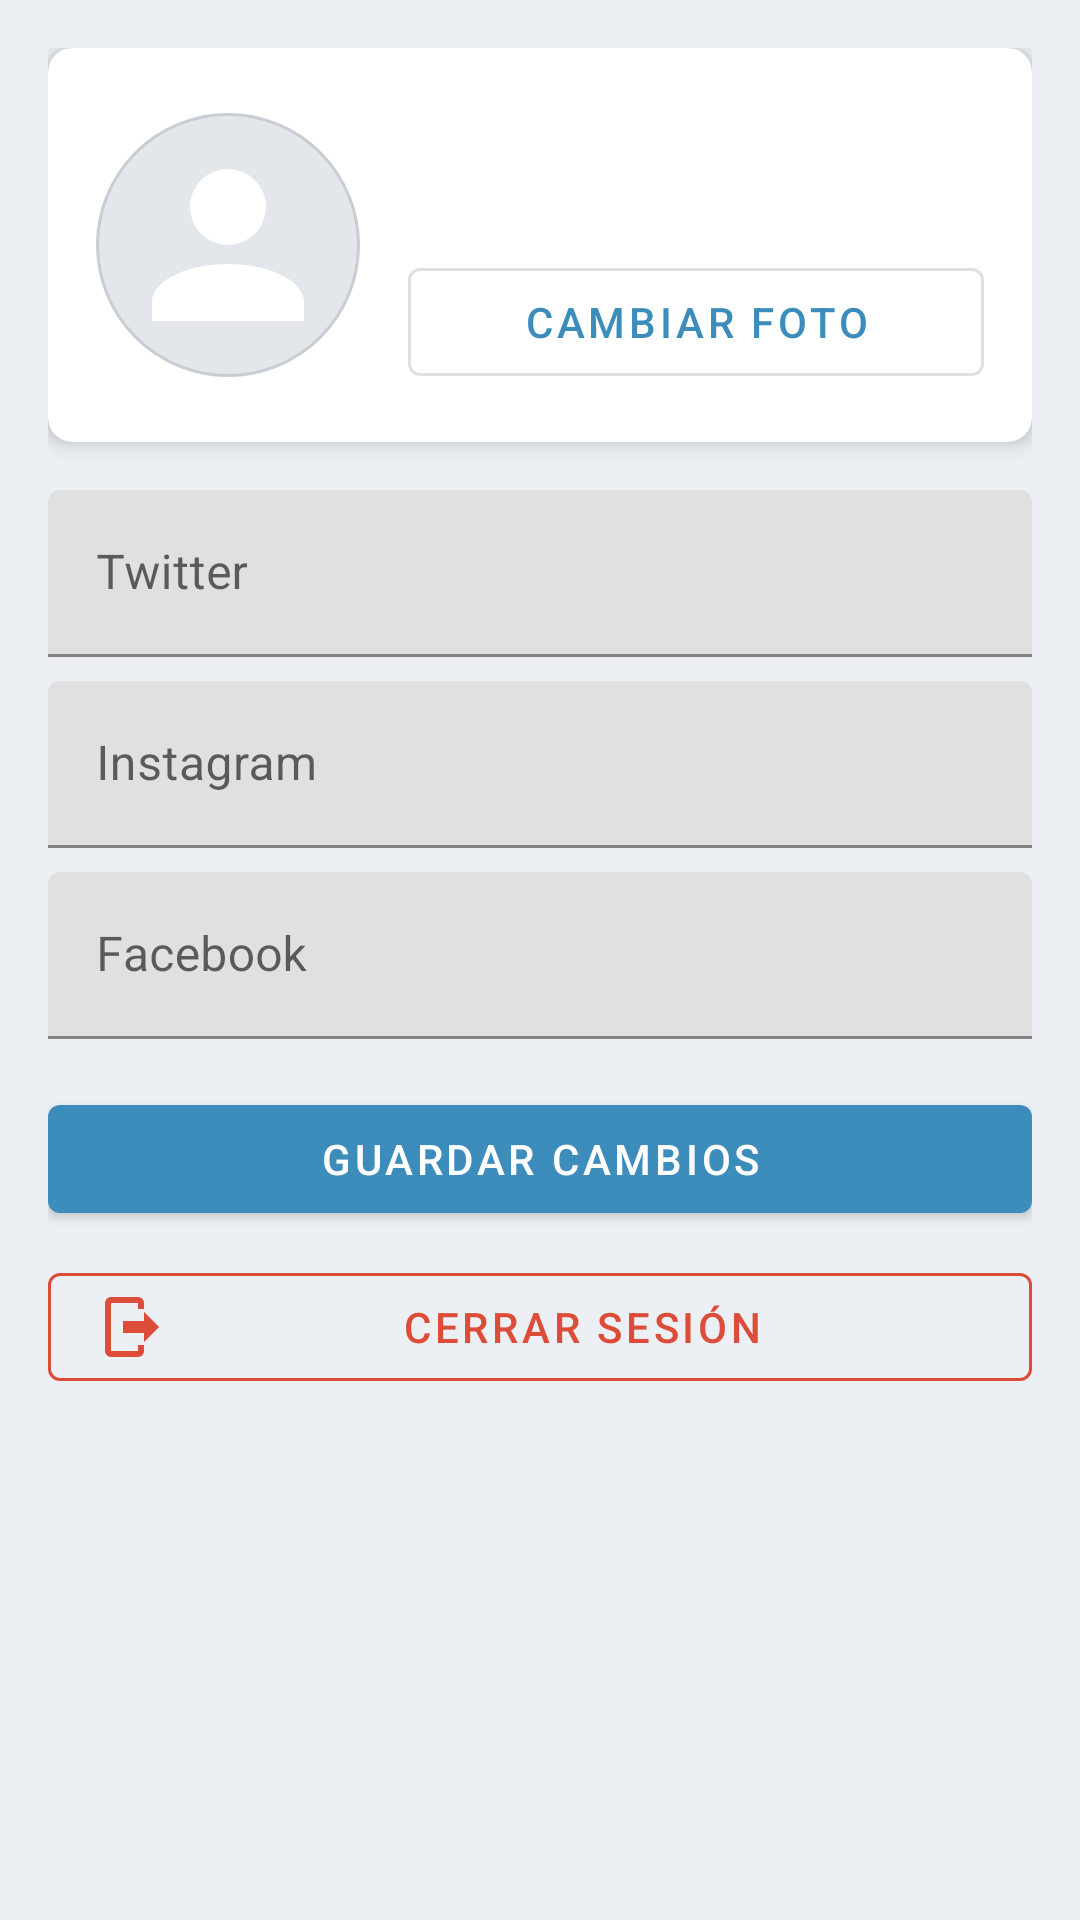

Icon bounding boxes for this 1080w x 1920h phone screenshot, format (x1, y1, x2, y2):
Mi Perfil: (96, 113, 360, 377)
